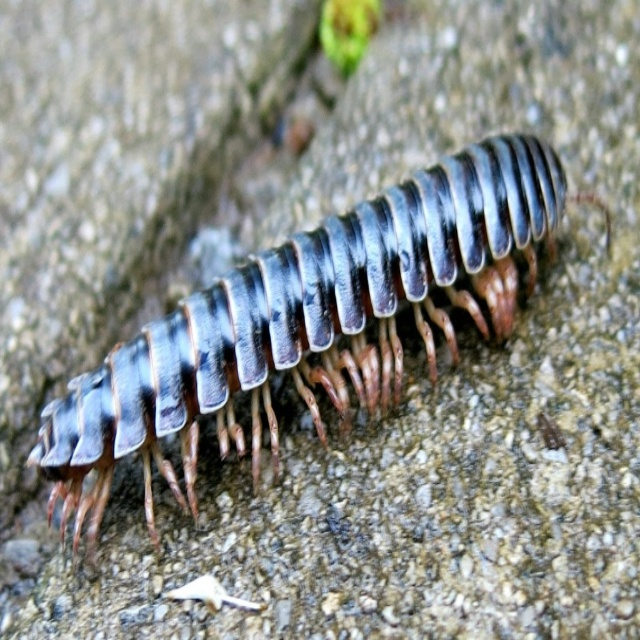Centipede: (26, 131, 610, 578)
